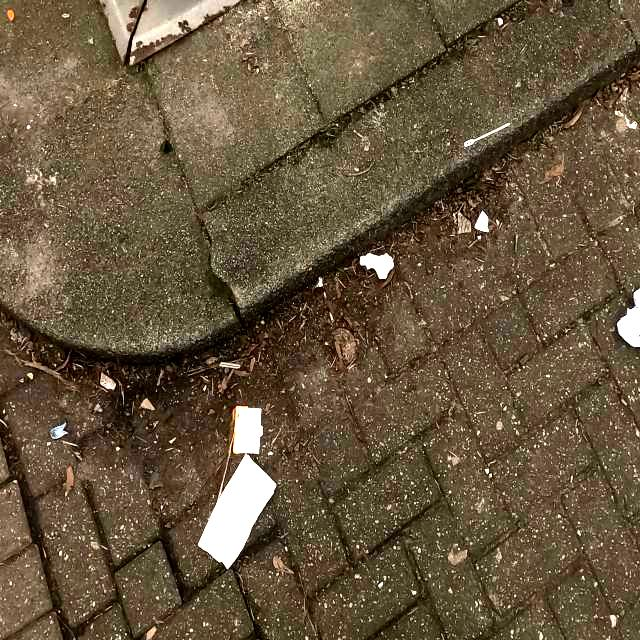Paper: (196, 454, 278, 572), (232, 404, 264, 456), (614, 287, 640, 347), (359, 252, 395, 280)
